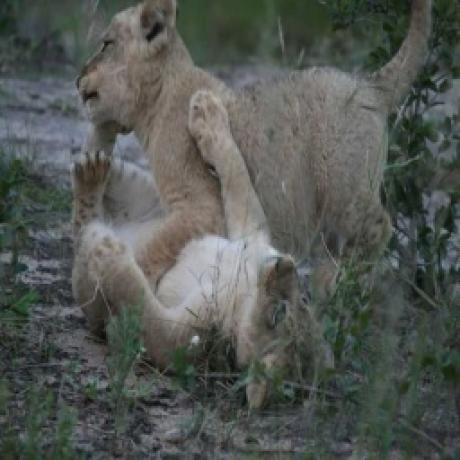Lion: (78, 0, 436, 268), (70, 138, 336, 412)
